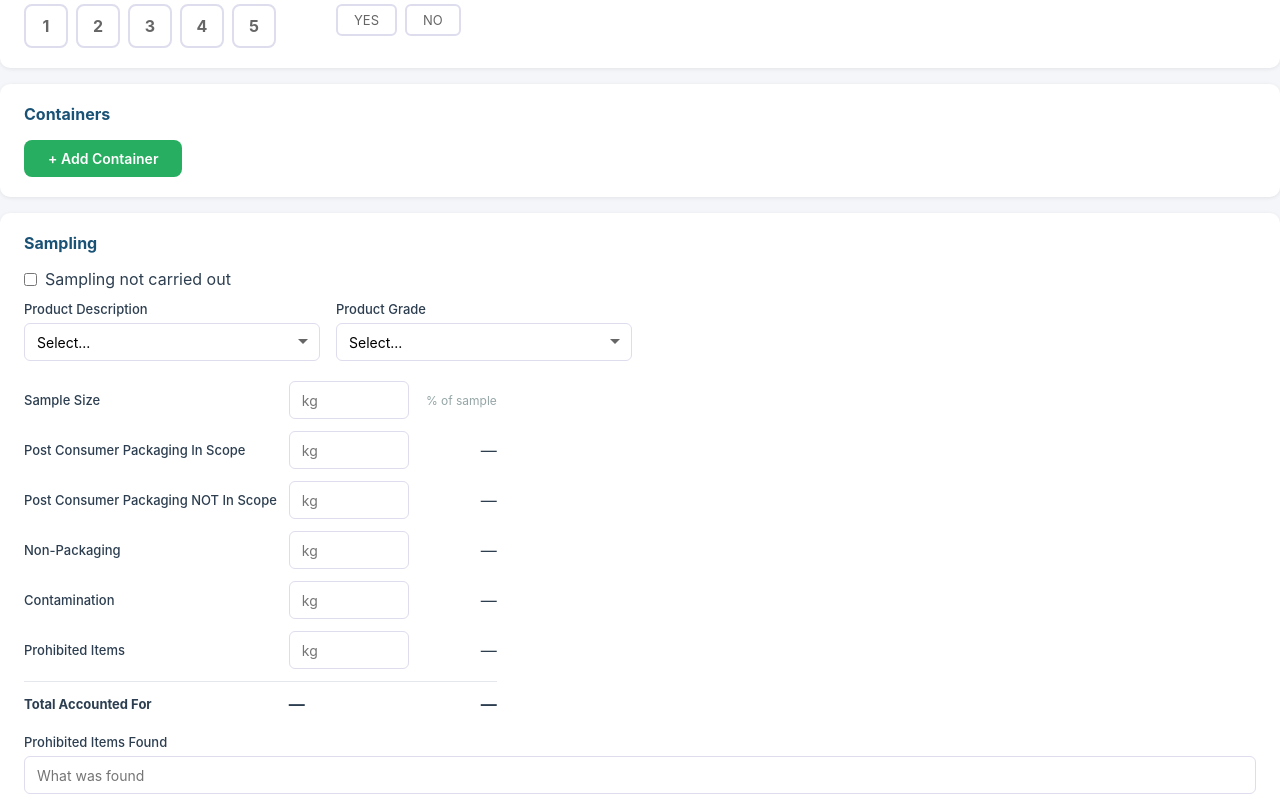
Test: sampling section › works out each weight as a percentage of the sample size as it is typed
(page scrolled)
Type "500" into the number field named "Sample Size (kg)".
click(349, 400); type("500")  # box [289, 381, 409, 419]
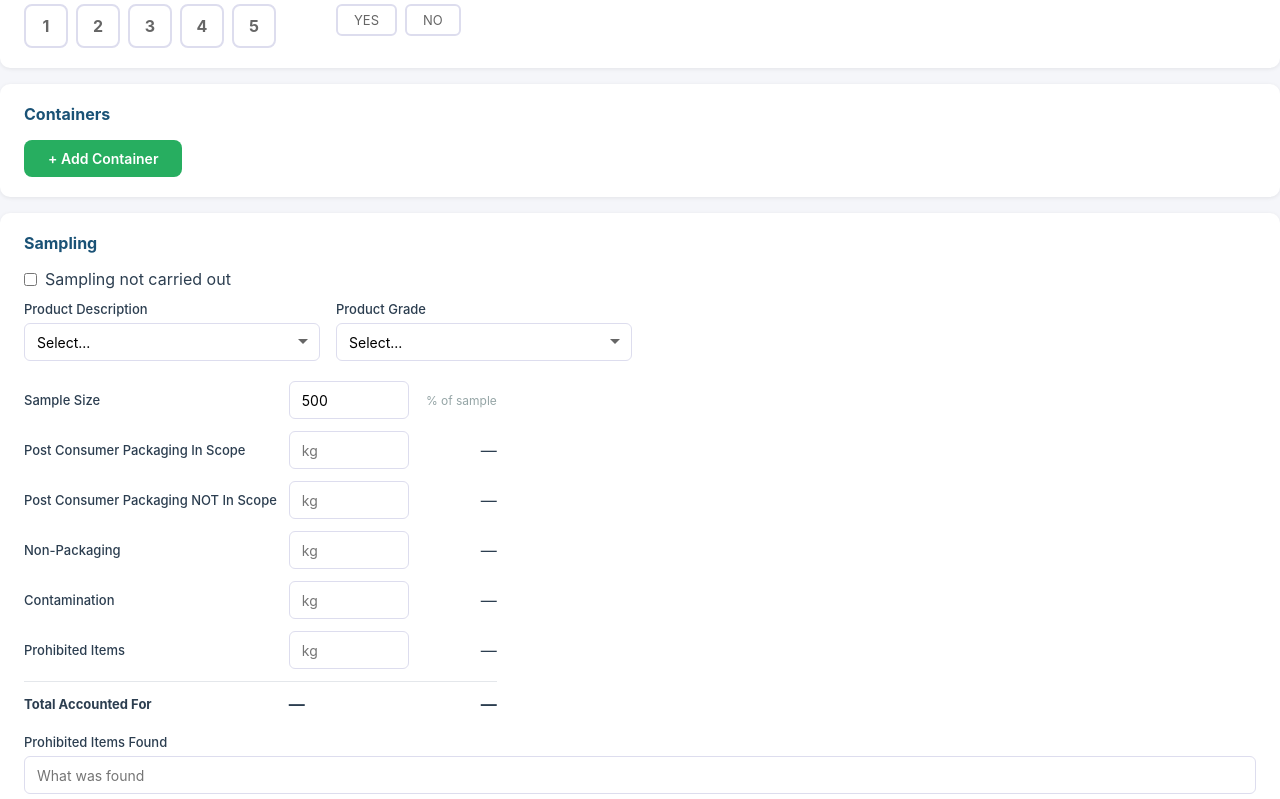
Type "440" into the number field named "Post Consumer Packaging In Scope (kg)".
click(349, 450); type("440")  # box [289, 431, 409, 469]
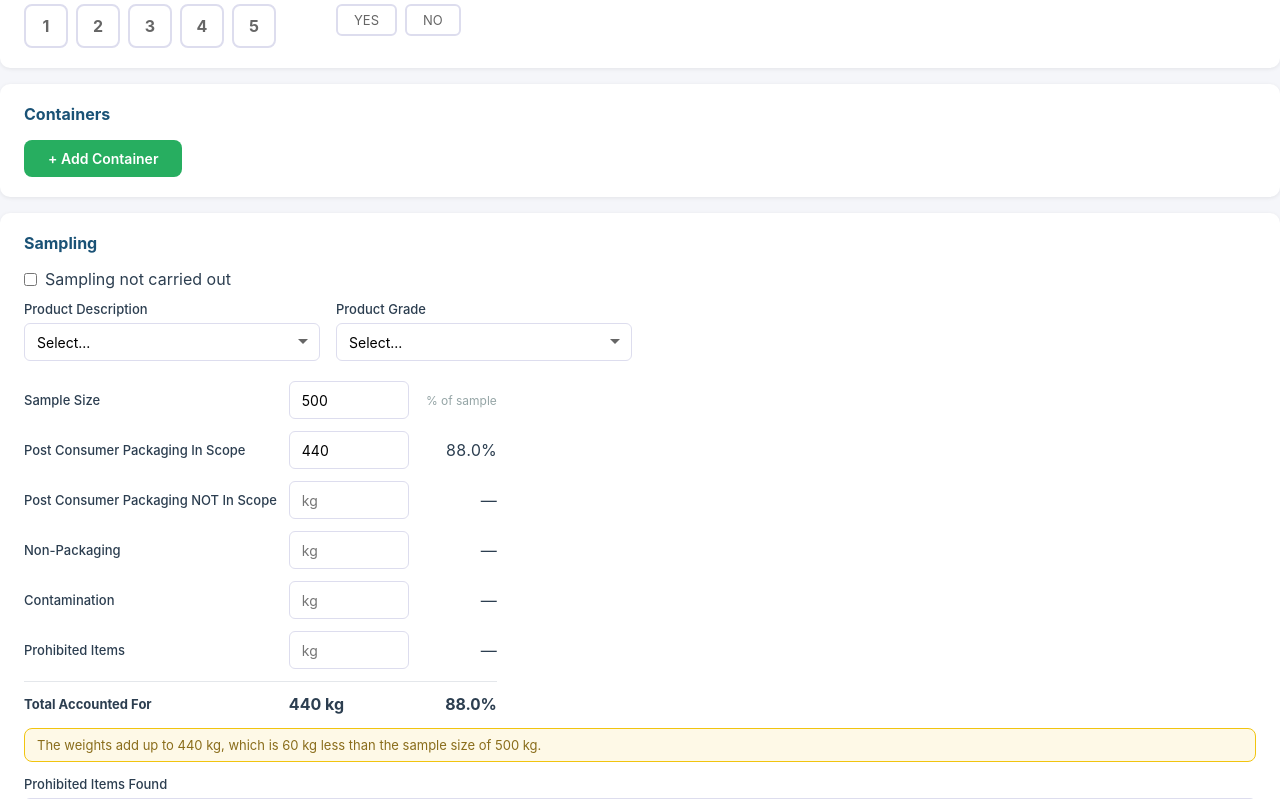
Type "25" into the number field named "Contamination (kg)".
click(349, 600); type("25")  # box [289, 581, 409, 619]
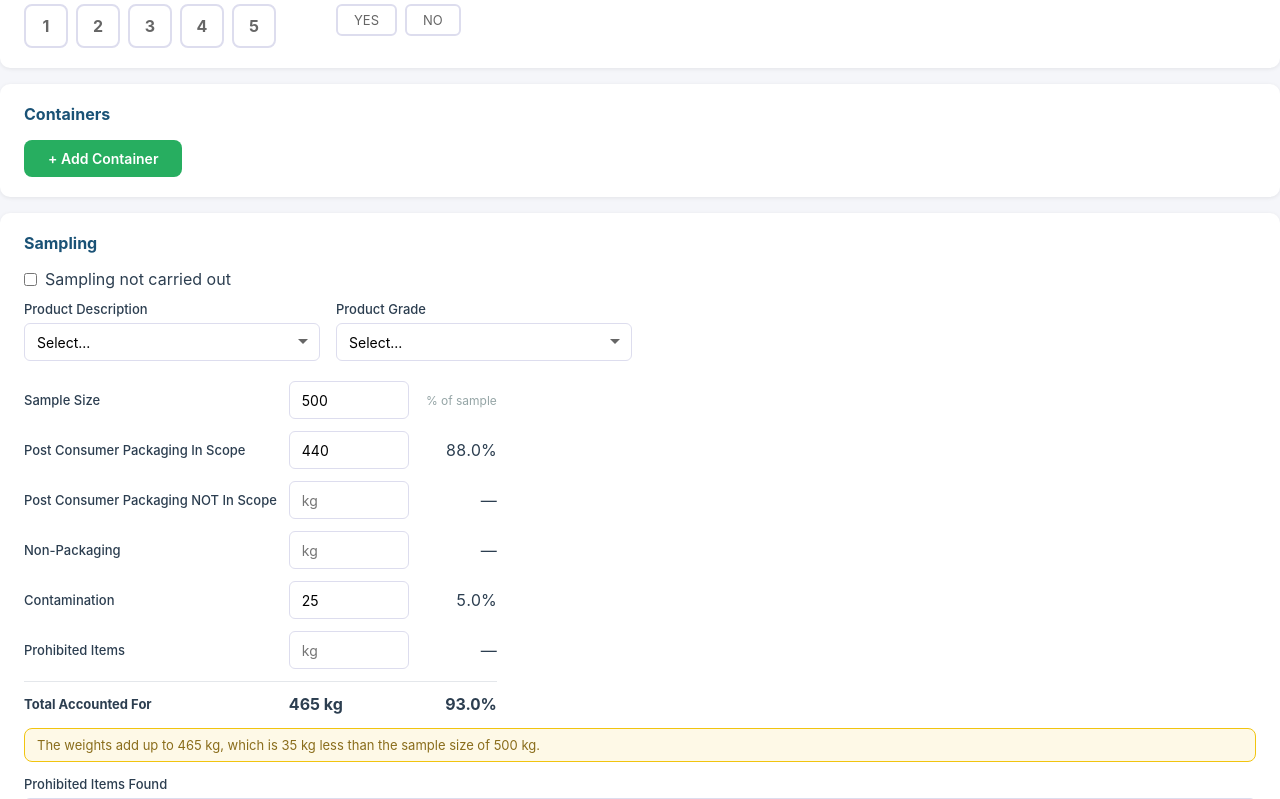
Expected: the text named "Post Consumer Packaging In Scope percentage" reads "88.0%", [446, 440, 497, 460]
Expected: the text named "Contamination percentage" reads "5.0%", [456, 590, 497, 610]
Expected: the text named "Total accounted for" reads "465 kg", [289, 694, 343, 714]
